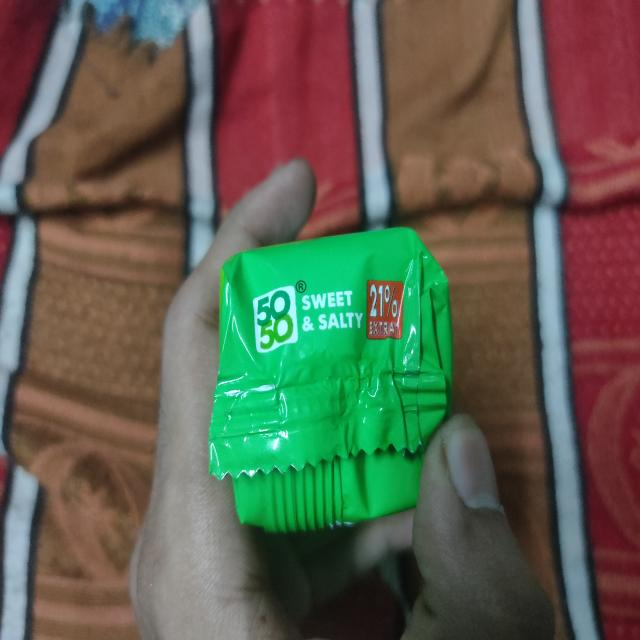50 50 biscuit: (206, 235, 458, 549)
